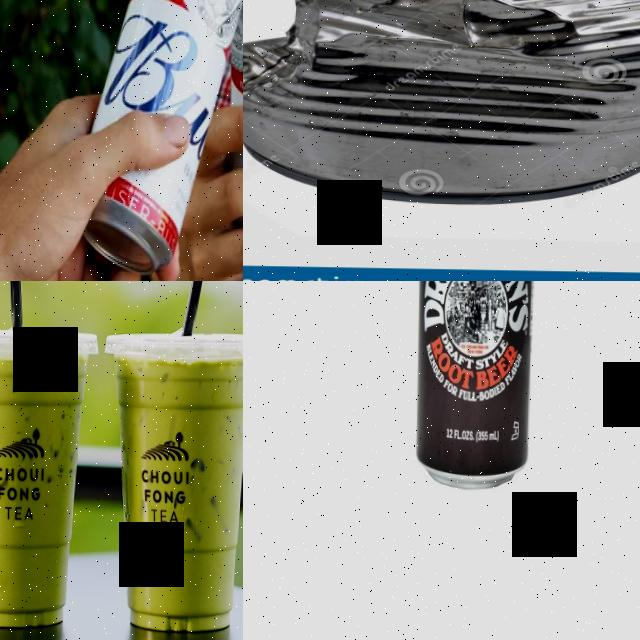can: (80, 0, 243, 273), (412, 281, 540, 492)
cup: (97, 329, 243, 639), (0, 326, 98, 635)
